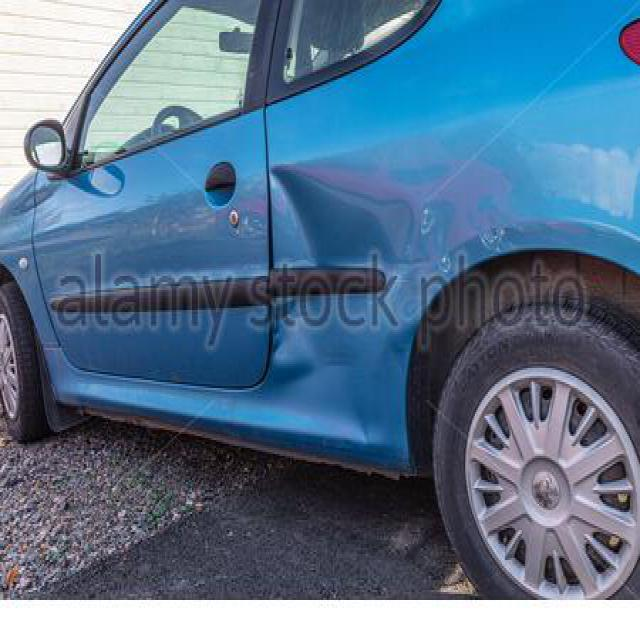doorouter-dent: (245, 144, 416, 464)
